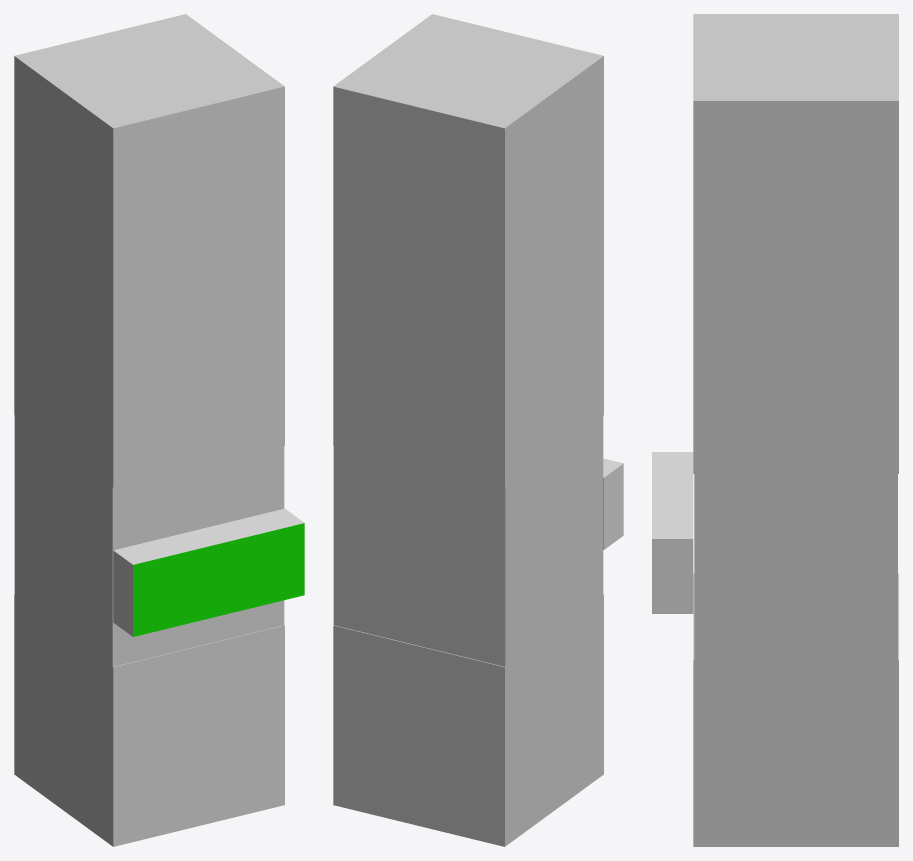
File: ville_plane.fbx
3 views of the same model, side by side, from view 1: azimuth 30°, elevation 25°; view 2: azimuth 150°, elevation 25°; view 3: azimuth 270°, elevation 25° (orthographic). The views are drawn at different scales.
Parts seen in each view (by area): view 1: Cube.005, Cube.008, Cube.006, Cube.009, Cube.010; view 2: Cube.005, Cube.008, Cube.006, Cube.009, Cube.010; view 3: Cube.005, Cube.008, Cube.006, Cube.009, Cube.010.
Part boxes in pixels (bbox=[...]): Cube.005: bbox=[14, 14, 284, 307]; Cube.008: bbox=[14, 595, 284, 846]; Cube.006: bbox=[14, 236, 284, 487]; Cube.009: bbox=[14, 416, 284, 666]; Cube.010: bbox=[113, 508, 304, 636]; Cube.005: bbox=[333, 14, 603, 307]; Cube.008: bbox=[333, 594, 603, 846]; Cube.006: bbox=[333, 236, 603, 487]; Cube.009: bbox=[333, 416, 603, 666]; Cube.010: bbox=[603, 458, 623, 549]; Cube.005: bbox=[693, 14, 898, 287]; Cube.008: bbox=[693, 573, 898, 846]; Cube.006: bbox=[693, 287, 898, 473]; Cube.009: bbox=[694, 474, 897, 660]; Cube.010: bbox=[652, 452, 693, 613].
Size of what is drawn, in the model's own units: 200 by 800 by 240.
